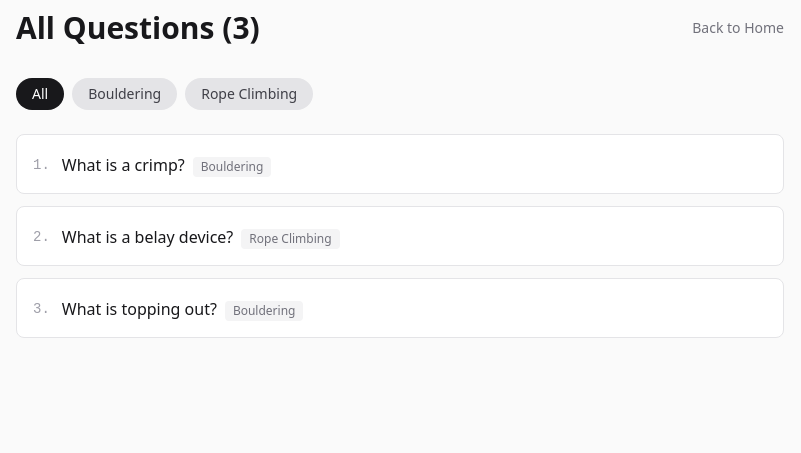
Test case: QuestionsPage › should expand question to show answer and explanation when clicked
Expected: the text "A small edge hold" is not shown
Expected: the text "A crimp is a small edge hold." is not shown
Click on the question
Step 1. Click the text "What is a crimp?" → (123, 165), box [62,154,185,176]
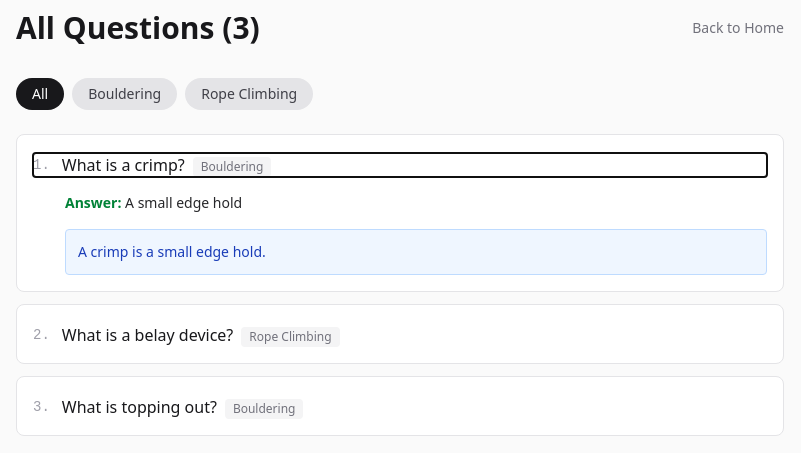
Now the text "A small edge hold" is shown, box [125,193,242,212]
Now the text "A crimp is a small edge hold." is shown, box [65,229,767,275]
Now the text "Answer:" is shown, box [65,193,125,212]
